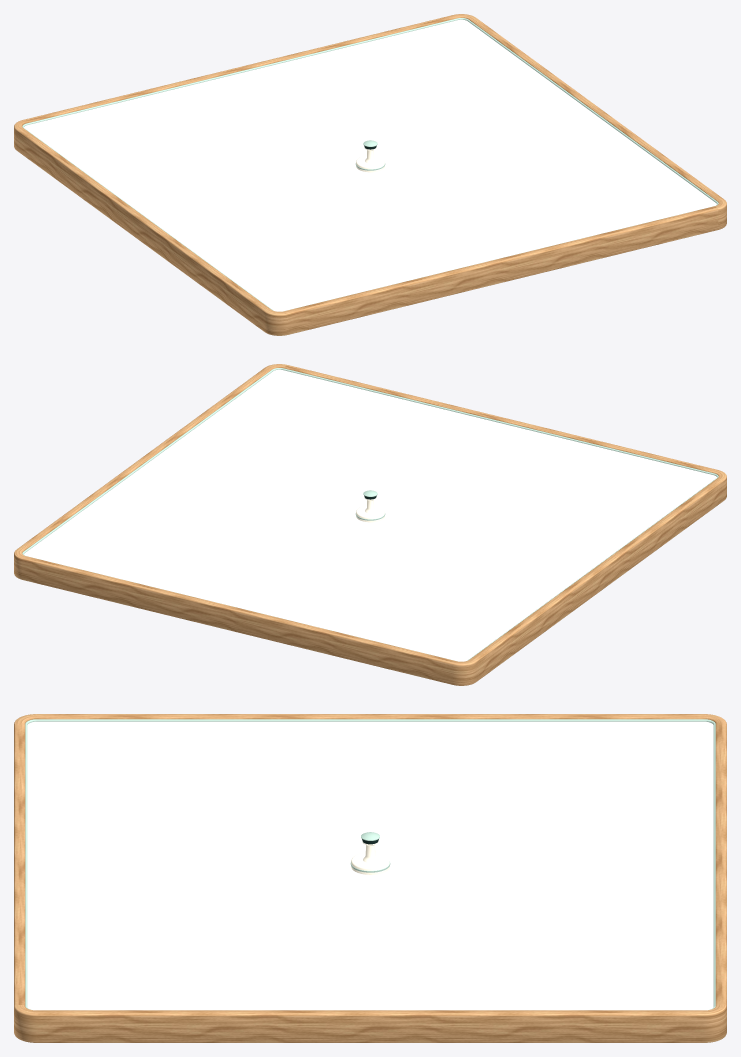
File: board.glb
The picture shows the model from 3 angles, top to bottom: view 1: azimuth 30°, elevation 25°; view 2: azimuth 150°, elevation 25°; view 3: azimuth 270°, elevation 25°; orthographic projection. The views are drawn at different scales.
Parts seen in each view (by area): view 1: Mat, Frame, Binding; view 2: Mat, Frame, Binding; view 3: Mat, Frame, Binding, Hub.
Part boxes in pixels (x1=…): Mat: x1=24, y1=19, x2=716, y2=311; Frame: x1=14, y1=14, x2=726, y2=335; Binding: x1=22, y1=18, x2=718, y2=311; Mat: x1=24, y1=369, x2=716, y2=661; Frame: x1=14, y1=364, x2=726, y2=685; Binding: x1=22, y1=368, x2=718, y2=661; Mat: x1=27, y1=721, x2=713, y2=1010; Frame: x1=14, y1=714, x2=726, y2=1042; Binding: x1=25, y1=719, x2=715, y2=1009; Hub: x1=351, y1=852, x2=389, y2=874.
Size of the model in its own units: 0.744 by 0.0678 by 0.744.
Materials: 5 (2 with a texture image).
